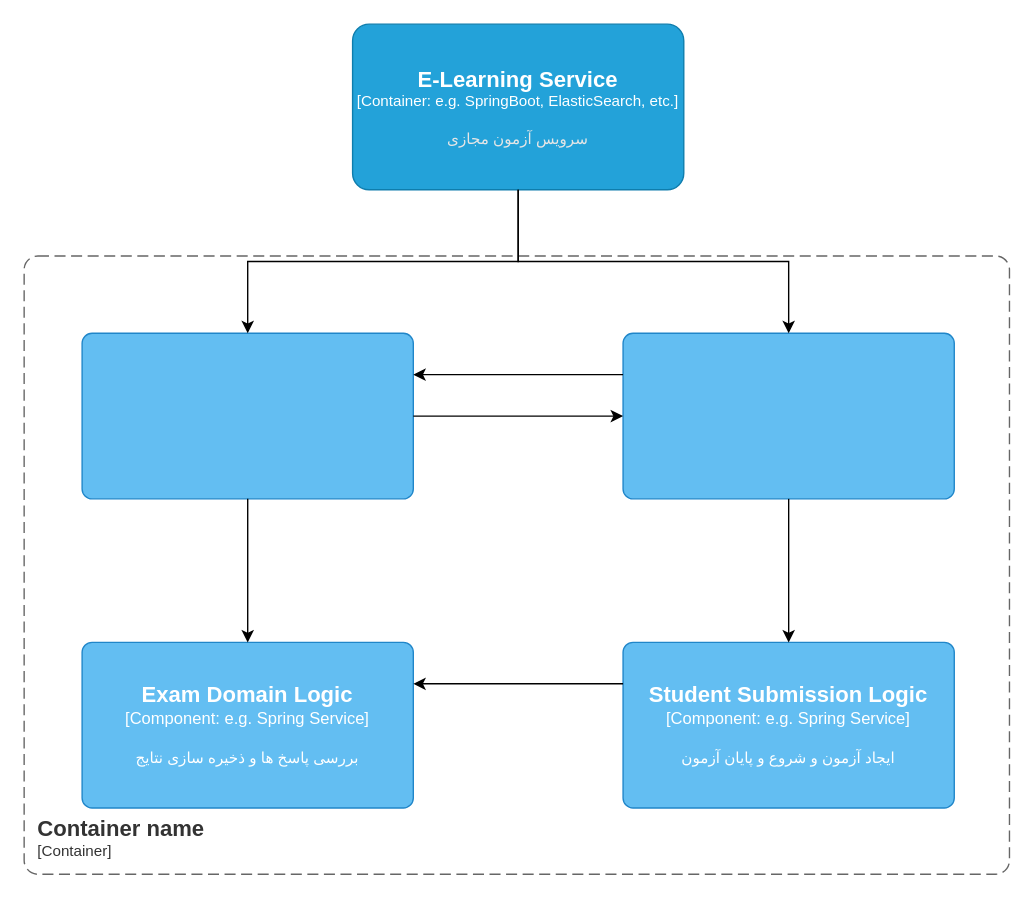
Image size: 1034x898. Some labels were removed from this diagram. The shapes that lost their labels are listed below. From the top down, each one's centre as x and y in pixels, then its label:
At pixel 247 415: "Exam Controller [Component: e.g. Spring Service] کنترل کننده امتحان".
At pixel 788 415: "Question Manager [Component: e.g. Spring Service] مدیریت کننده سوال".
